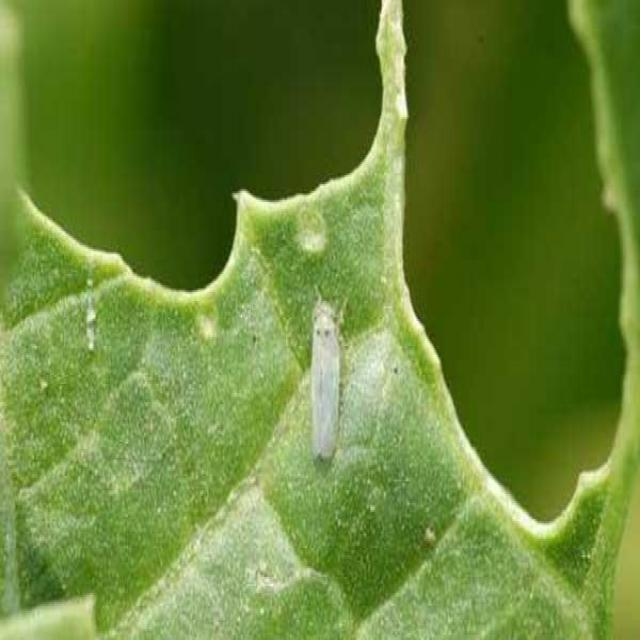Yechan: (307, 272, 355, 469)
